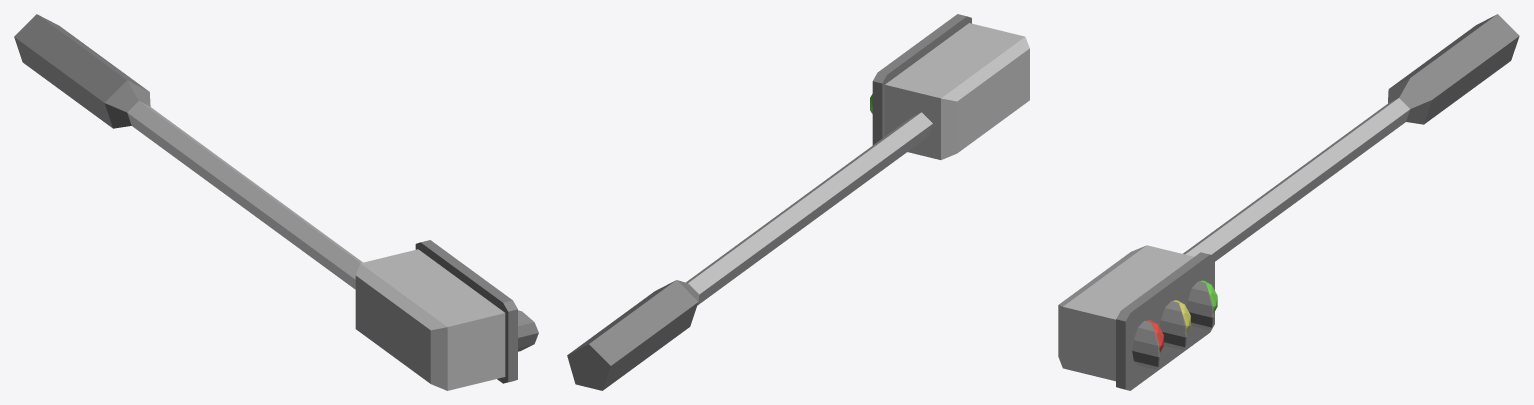
The model's file is traffic-light.obj.
The picture shows the model from 3 angles, left to right: view 1: azimuth 30°, elevation 25°; view 2: azimuth 150°, elevation 25°; view 3: azimuth 330°, elevation 25°; orthographic projection. The views are drawn at different scales.
Parts seen in each view (by area): view 1: traffic-light; view 2: traffic-light; view 3: traffic-light.
Boxes of the visible parts, x1,y1,x2,y2 form: traffic-light: [14, 14, 538, 390]; traffic-light: [567, 14, 1029, 390]; traffic-light: [1058, 14, 1519, 390].
Bounding box in the file's own units: 20.33 × 14.82 × 144.
